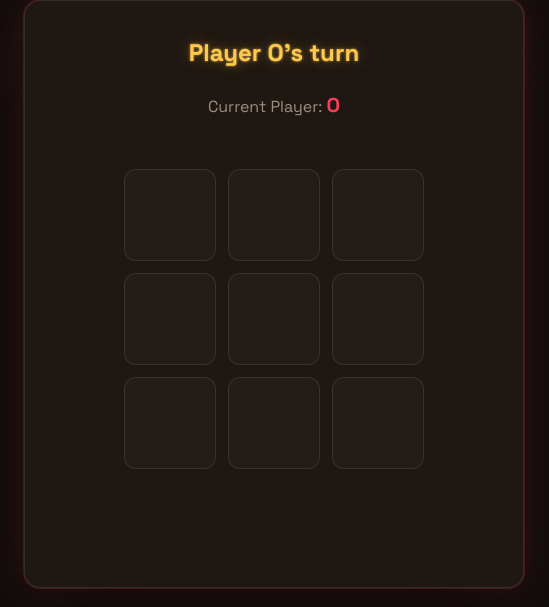
Test: Board Component › detects horizontal win
# Player O wins horizontally (top row)
Click the cell named "Empty block 1 at row 1, column 1. Click to place your mark.": (170, 215) x1=124 y1=169 x2=216 y2=261
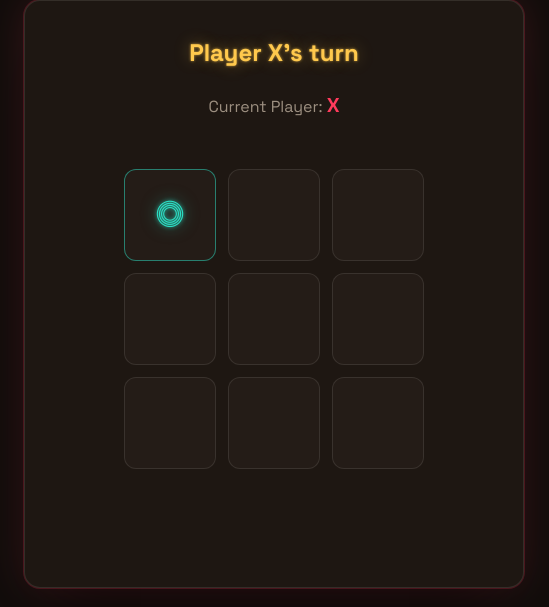
Click the cell named "Empty block 4 at row 2, column 1. Click to place your mark.": (170, 319) x1=124 y1=273 x2=216 y2=365
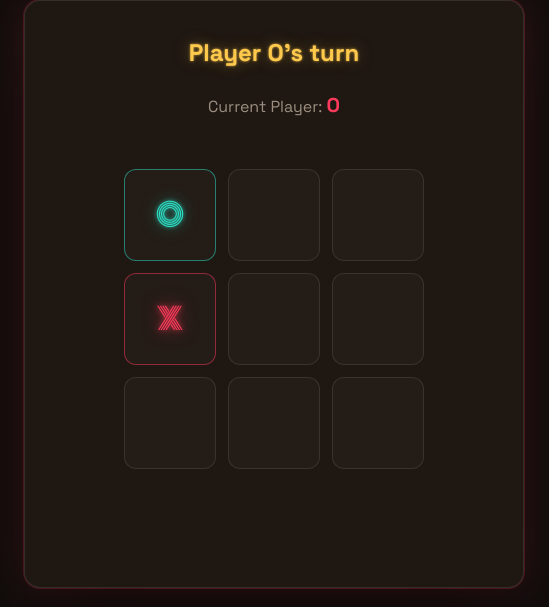
Click the cell named "Empty block 2 at row 1, column 2. Click to place your mark.": (274, 215) x1=228 y1=169 x2=320 y2=261
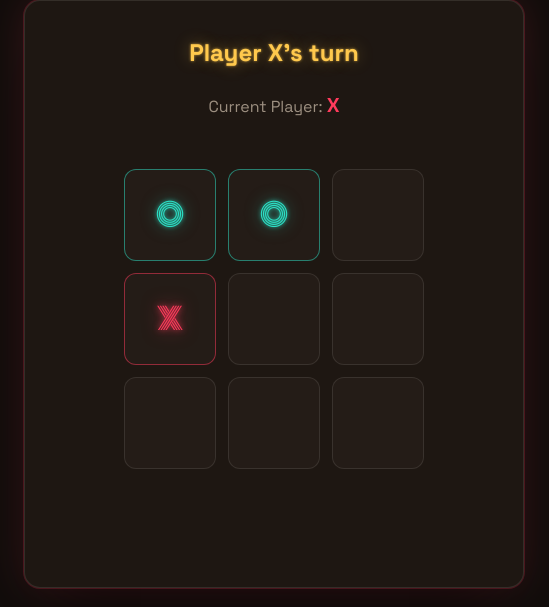
Click the cell named "Empty block 5 at row 2, column 2. Click to place your mark.": (274, 319) x1=228 y1=273 x2=320 y2=365
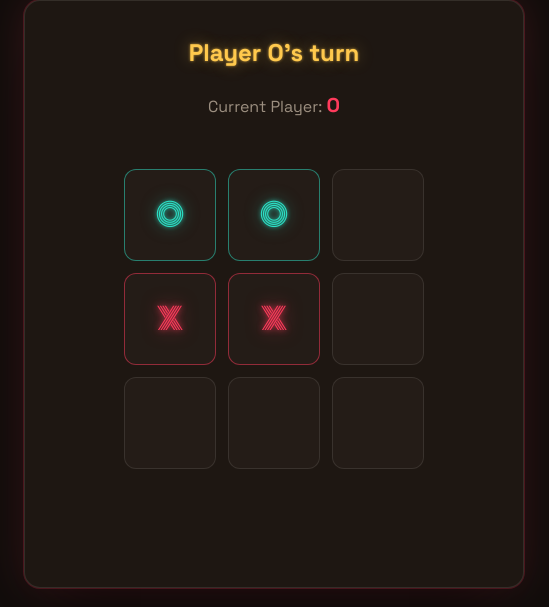
Click the cell named "Empty block 3 at row 1, column 3. Click to place your mark.": (378, 215) x1=332 y1=169 x2=424 y2=261
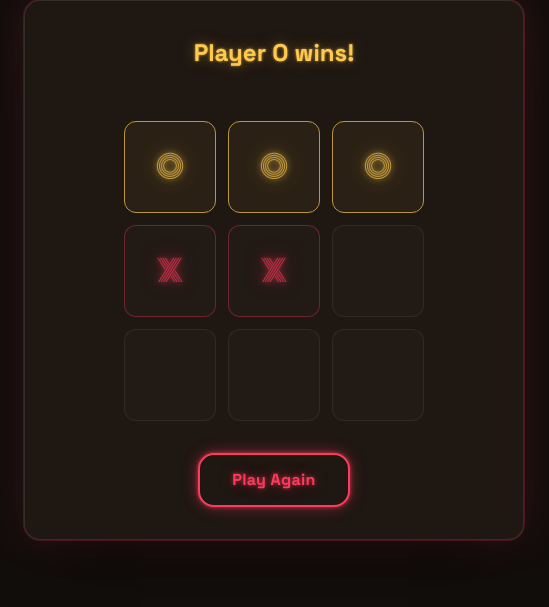
Result: the heading "Player O wins!" is shown at x1=194 y1=37 x2=354 y2=68
